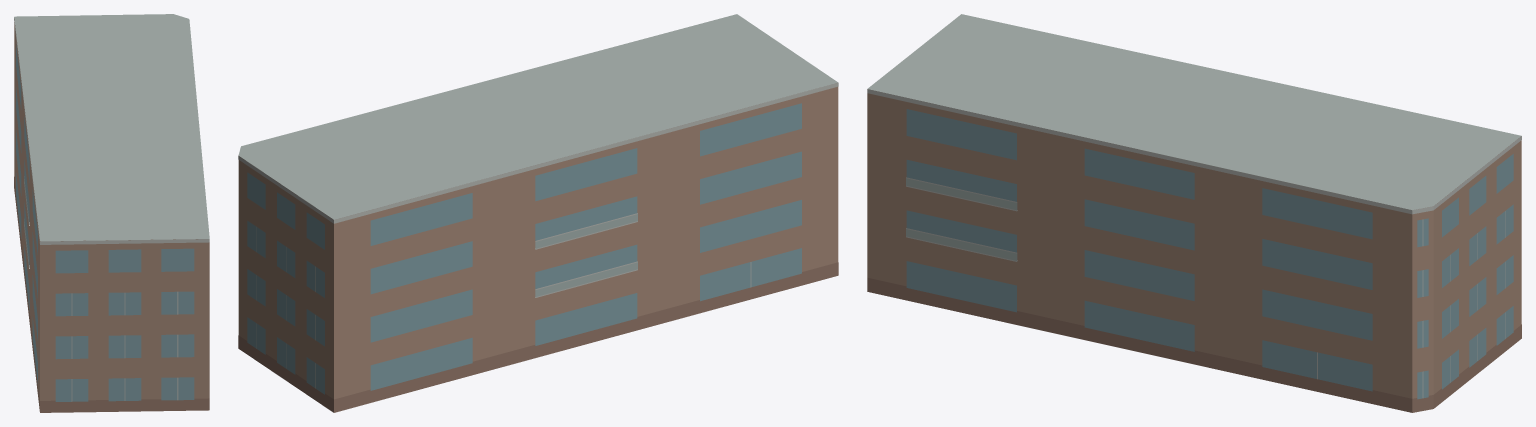
Rendered from survey-upis-32682624.glb.
3 renders of one model, left to right at view 1: azimuth 30°, elevation 25°; view 2: azimuth 150°, elevation 25°; view 3: azimuth 270°, elevation 25°, orthographic. The views are drawn at different scales.
Visible parts, largest first — view 1: survey-upis-32682624.tmp; view 2: survey-upis-32682624.tmp; view 3: survey-upis-32682624.tmp.
Boxes of the visible parts, x1,y1,x2,y2 form: survey-upis-32682624.tmp: (14, 14, 209, 412); survey-upis-32682624.tmp: (238, 14, 838, 412); survey-upis-32682624.tmp: (867, 14, 1521, 412).
Size of the model in its own units: 24.49 by 11.8 by 34.53.
